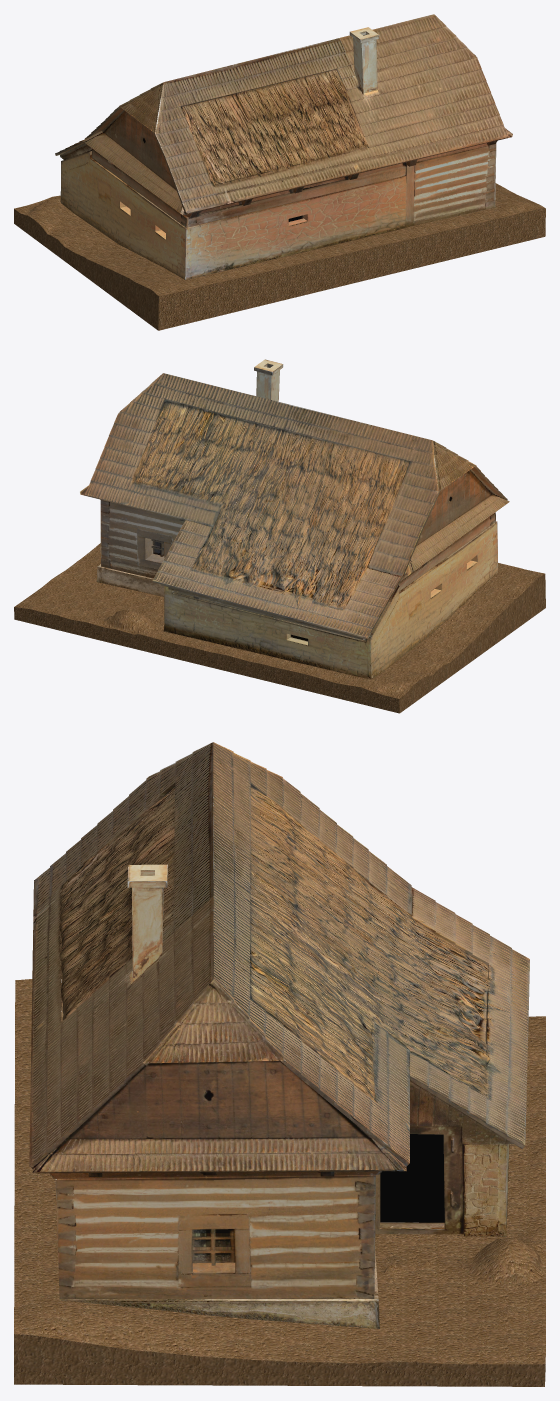
The model's file is hlunsko.dae.
3 renders of one model, top to bottom at view 1: azimuth 30°, elevation 25°; view 2: azimuth 150°, elevation 25°; view 3: azimuth 270°, elevation 25°, orthographic. The views are drawn at different scales.
Visible parts, largest first — view 1: SketchUp (×6), group_0, group_3; view 2: SketchUp (×7), group_4, group_0; view 3: SketchUp (×9), group_0, group_4, group_3.
Boxes of the visible parts, x1,y1,x2,y2 form: SketchUp (×6): (60,14,508,279); group_0: (14,183,545,330); group_3: (181,69,368,185); SketchUp (×7): (85,373,509,679); group_4: (132,399,410,607); group_0: (14,543,545,713); SketchUp (×9): (29,742,529,1328); group_0: (14,979,545,1386); group_4: (250,784,490,1100); group_3: (59,783,175,1021).
Bounding box in the file's own units: 15.89 × 10.35 × 8.24.
Materials: 12 (10 with a texture image).
